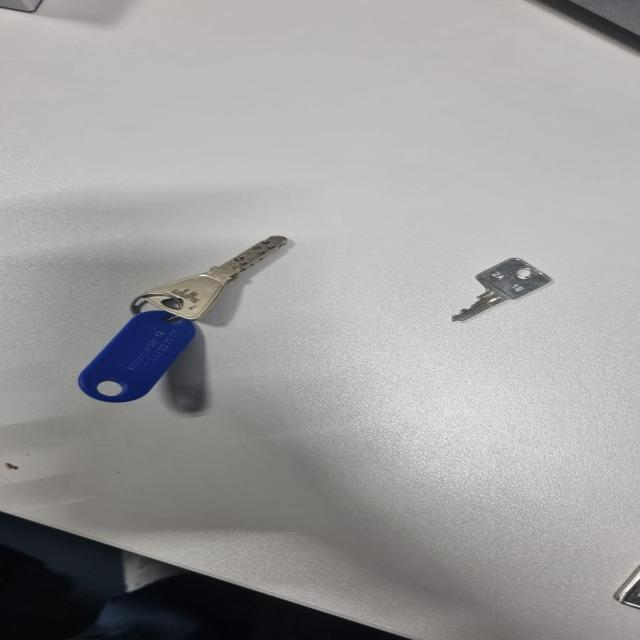Key: (125, 227, 297, 325), (452, 258, 551, 322)
